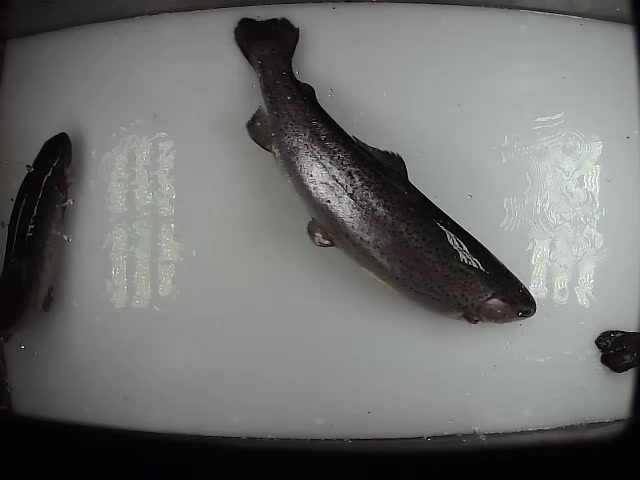fish: (232, 15, 537, 327), (1, 129, 75, 360)
